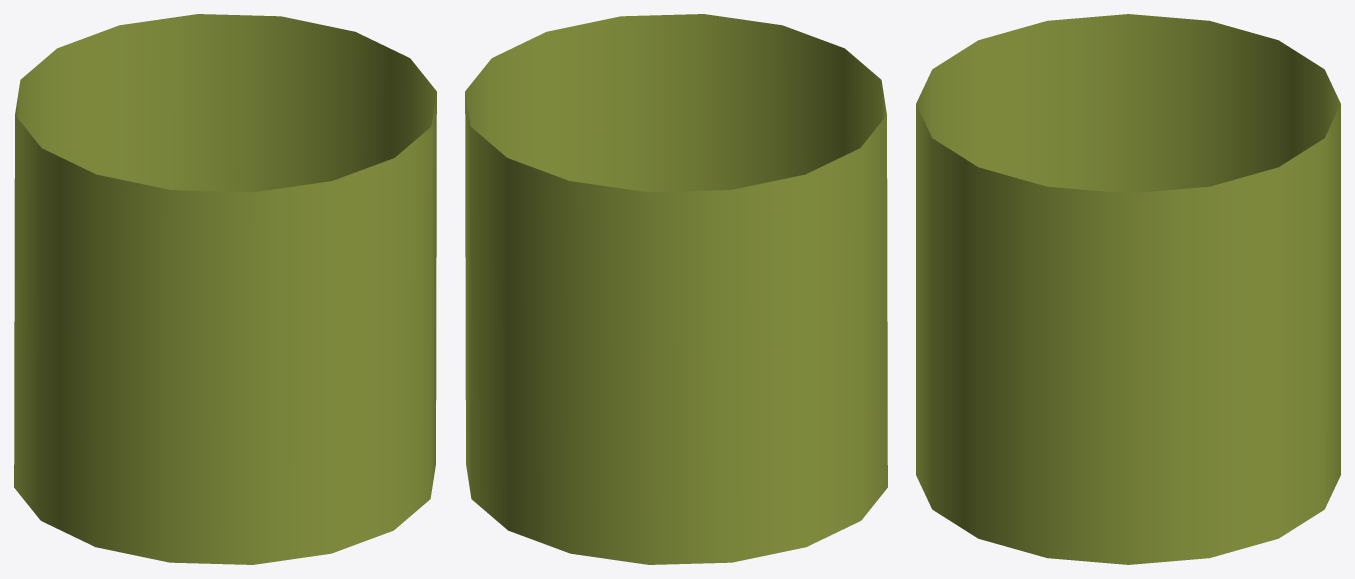
The model's file is Sci_Interior_columCyl_02.fbx.
3 renders of one model, left to right at view 1: azimuth 30°, elevation 25°; view 2: azimuth 150°, elevation 25°; view 3: azimuth 270°, elevation 25°, orthographic.
Visible parts, largest first — view 1: Sci_Interior_columCyl_02; view 2: Sci_Interior_columCyl_02; view 3: Sci_Interior_columCyl_02.
Boxes of the visible parts, x1,y1,x2,y2 form: Sci_Interior_columCyl_02: (14,14,436,564); Sci_Interior_columCyl_02: (465,14,887,564); Sci_Interior_columCyl_02: (916,14,1340,564).
Size of the model in its own units: 20.43 by 19.69 by 20.38.
